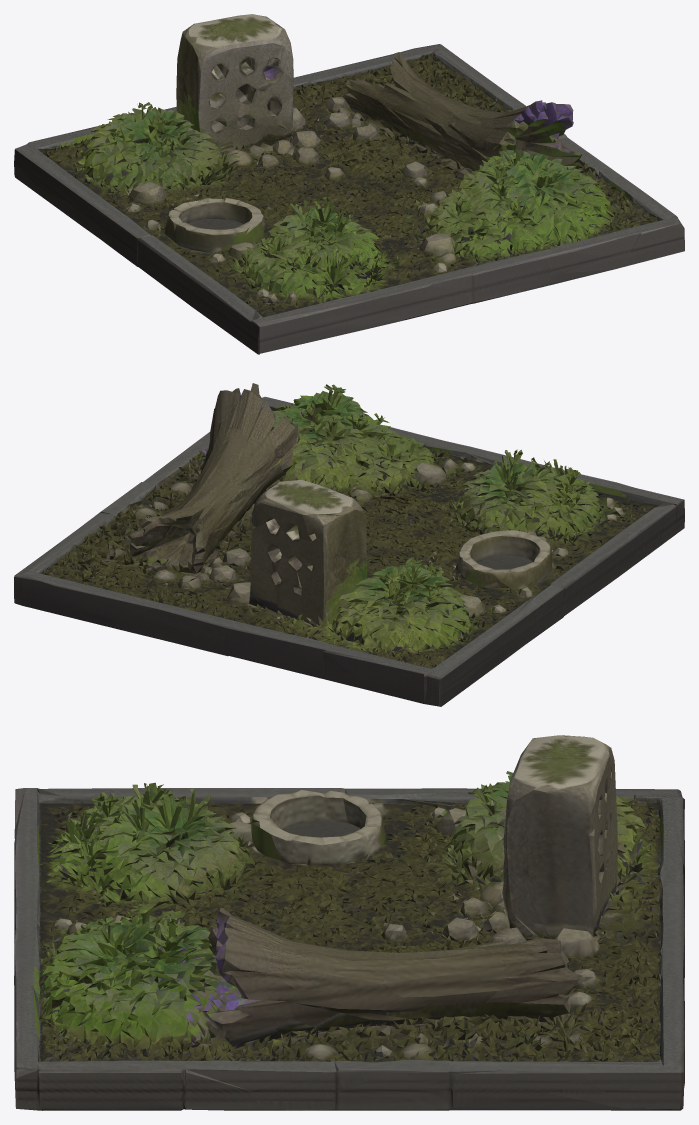
File: building_nature_patch.glb
3 views of the same model, one above another, from view 1: azimuth 30°, elevation 25°; view 2: azimuth 150°, elevation 25°; view 3: azimuth 270°, elevation 25° (orthographic). The views are drawn at different scales.
Visible parts, largest first — view 1: output_unwrapped; view 2: output_unwrapped; view 3: output_unwrapped.
Part boxes in pixels (x1,y1,x2,y2): output_unwrapped: [14, 14, 684, 354]; output_unwrapped: [14, 383, 684, 706]; output_unwrapped: [14, 735, 684, 1110].
Bounding box in the file's own units: 2 × 0.6168 × 2.
Materials: 1 (1 with a texture image).
